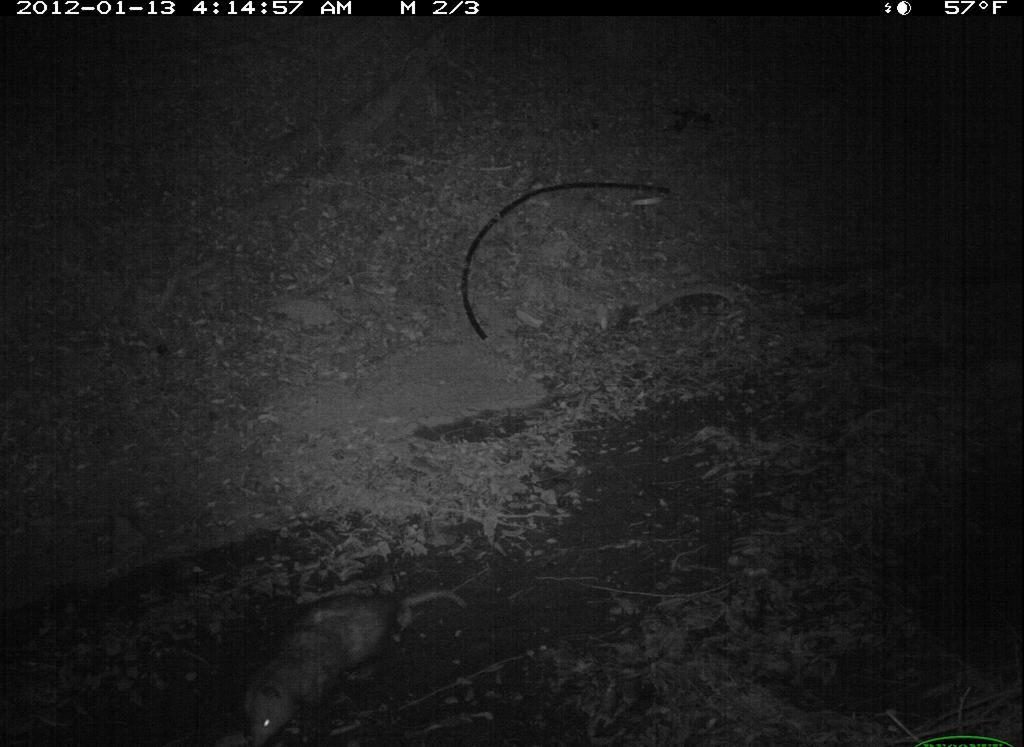opossum: (244, 578, 466, 744)
